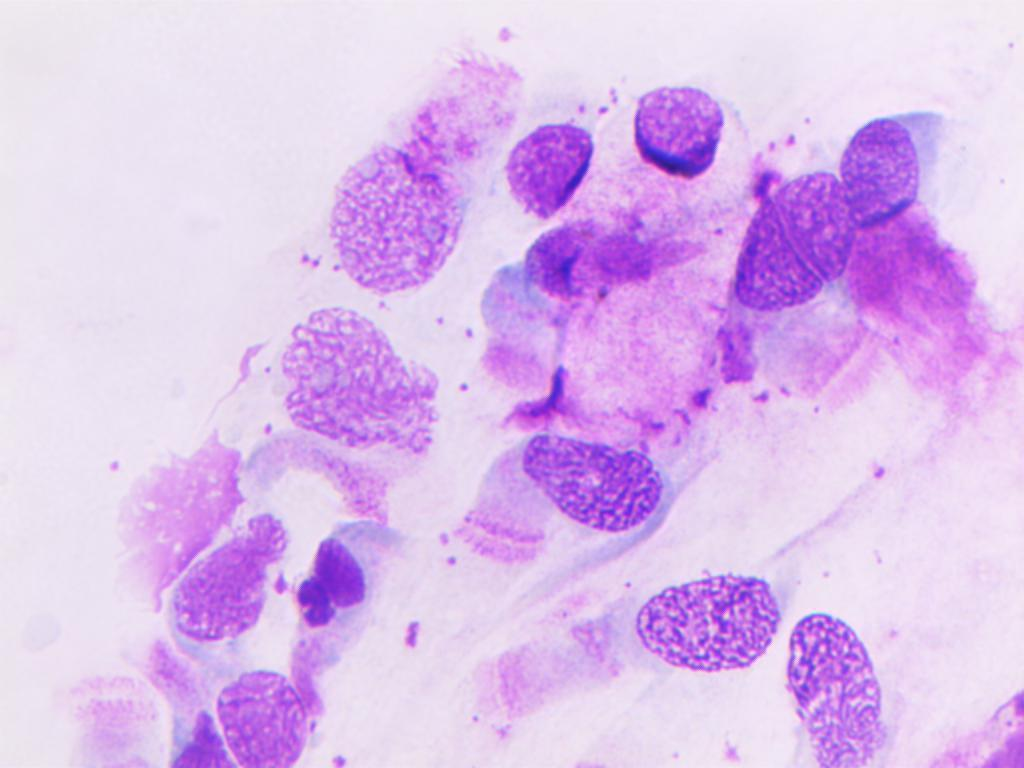artifact: (110, 417, 243, 607)
epithelial: (257, 301, 457, 466), (312, 144, 469, 302), (775, 606, 900, 768), (726, 162, 852, 319), (171, 507, 298, 653), (628, 571, 778, 689), (520, 429, 671, 536), (514, 212, 671, 303), (205, 668, 332, 768), (291, 513, 380, 636)
goblet_cell: (835, 95, 979, 346), (627, 69, 730, 253), (488, 120, 647, 234)
